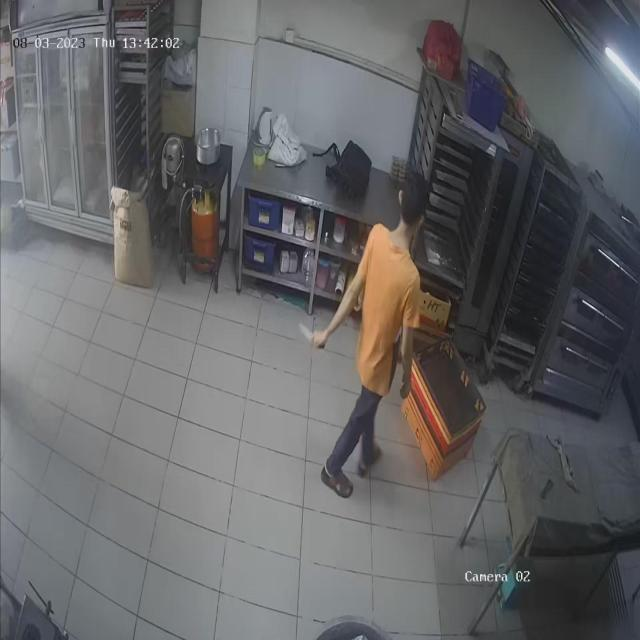Knife: (290, 312, 332, 353)
